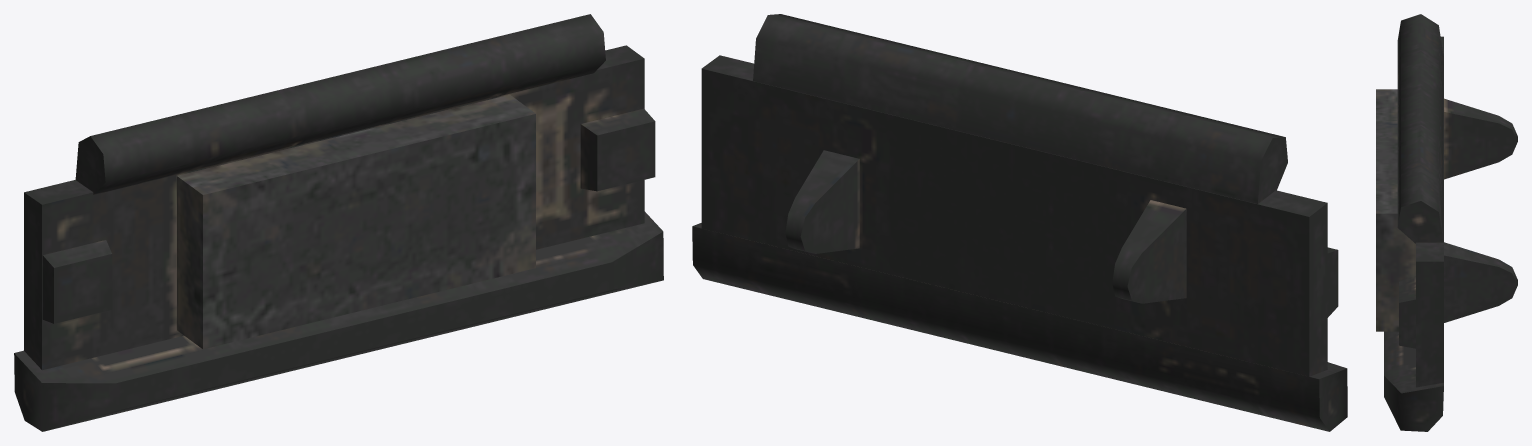
The picture shows the model from 3 angles, left to right: view 1: azimuth 30°, elevation 25°; view 2: azimuth 150°, elevation 25°; view 3: azimuth 270°, elevation 25°; orthographic projection. The views are drawn at different scales.
Parts seen in each view (by area): view 1: set_0_group_0; view 2: set_0_group_0; view 3: set_0_group_0.
Part boxes in pixels (bbox=[...]): set_0_group_0: bbox=[14, 14, 663, 431]; set_0_group_0: bbox=[692, 14, 1347, 431]; set_0_group_0: bbox=[1376, 14, 1517, 431].
Bounding box in the file's own units: 0.3504 × 0.1471 × 0.0905.
1 material, 1 textured.
